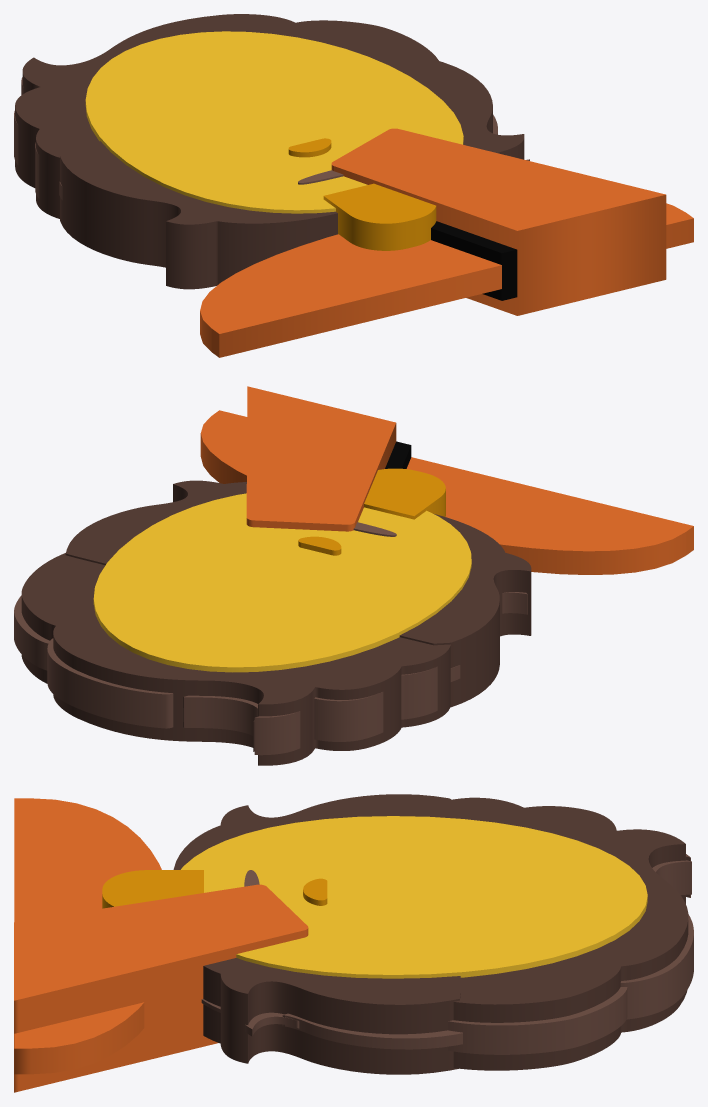
File: emoji_u1f926.glb
The picture shows the model from 3 angles, top to bottom: view 1: azimuth 30°, elevation 25°; view 2: azimuth 150°, elevation 25°; view 3: azimuth 270°, elevation 25°; orthographic projection. The views are drawn at different scales.
Parts seen in each view (by area): view 1: emoji_u1f926; view 2: emoji_u1f926; view 3: emoji_u1f926.
Boxes of the visible parts, box(x1,y1,x2,y2) form: emoji_u1f926: box(14, 14, 693, 357); emoji_u1f926: box(14, 386, 693, 765); emoji_u1f926: box(14, 794, 693, 1092).
Bounding box in the file's own units: 0.0292 × 0.005 × 0.0335.
